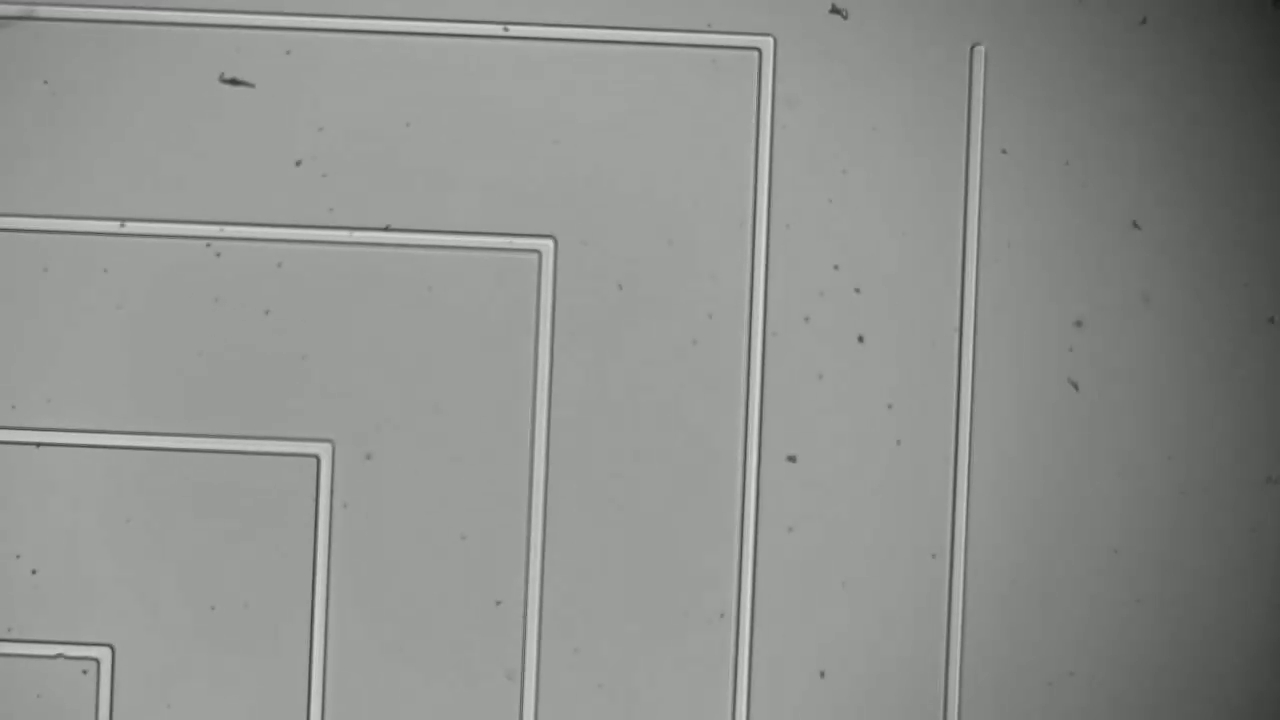edge_bite: (45, 629, 77, 669)
